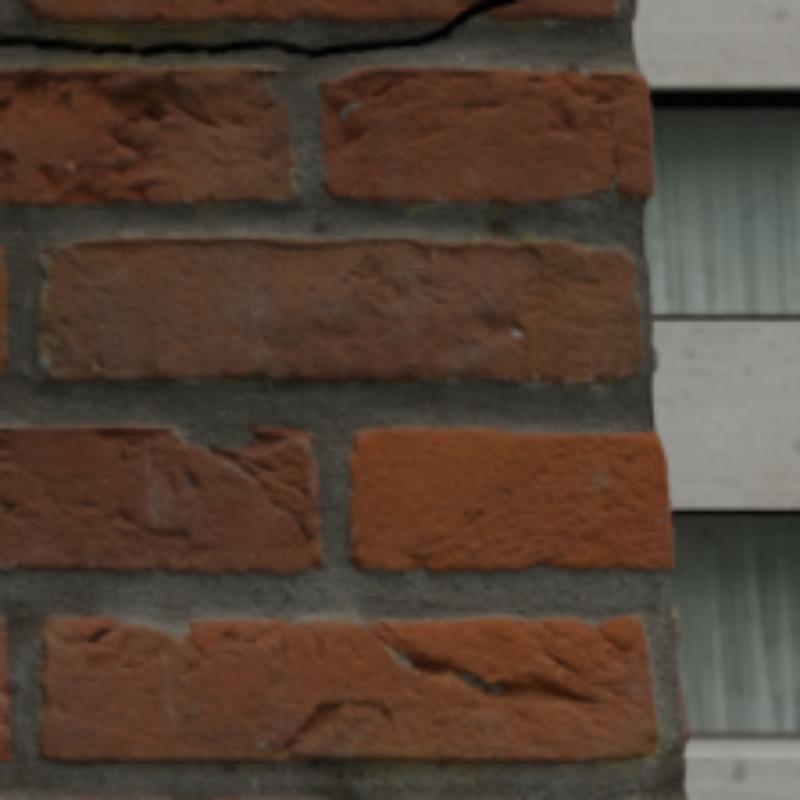pothole: (0, 0, 518, 57)
